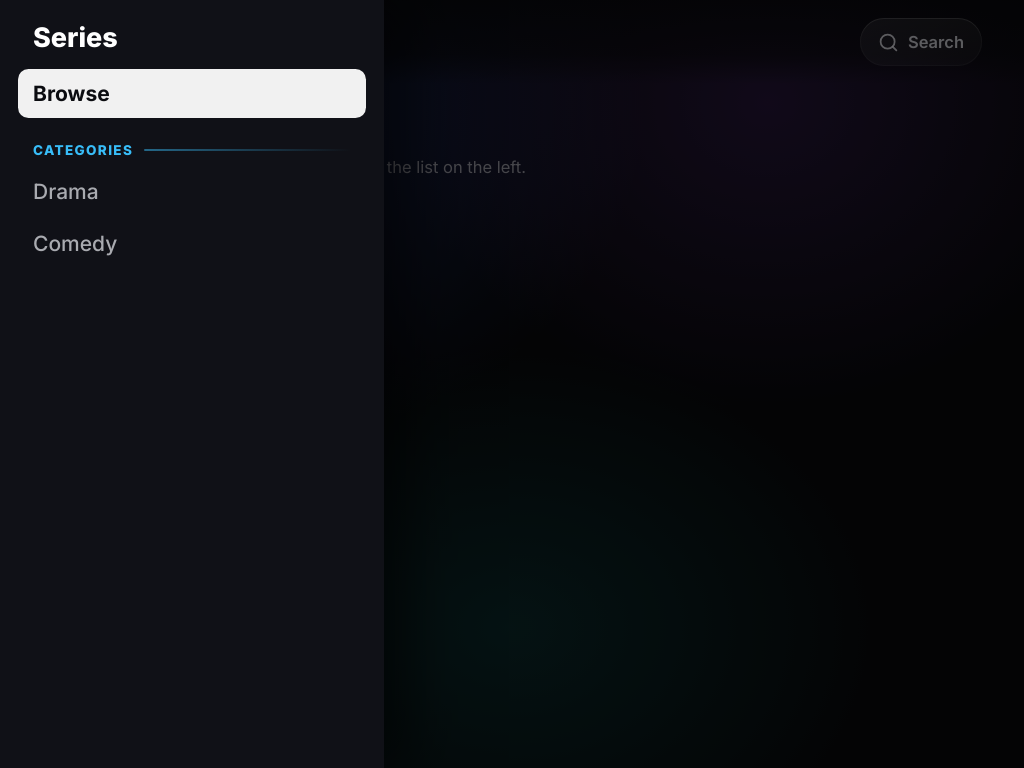
Test: SeriesScreen while the series table is still being built › picking a category meanwhile fetches just that category from the provider
Click the button "Drama" at (66, 192), box [18, 167, 366, 216]
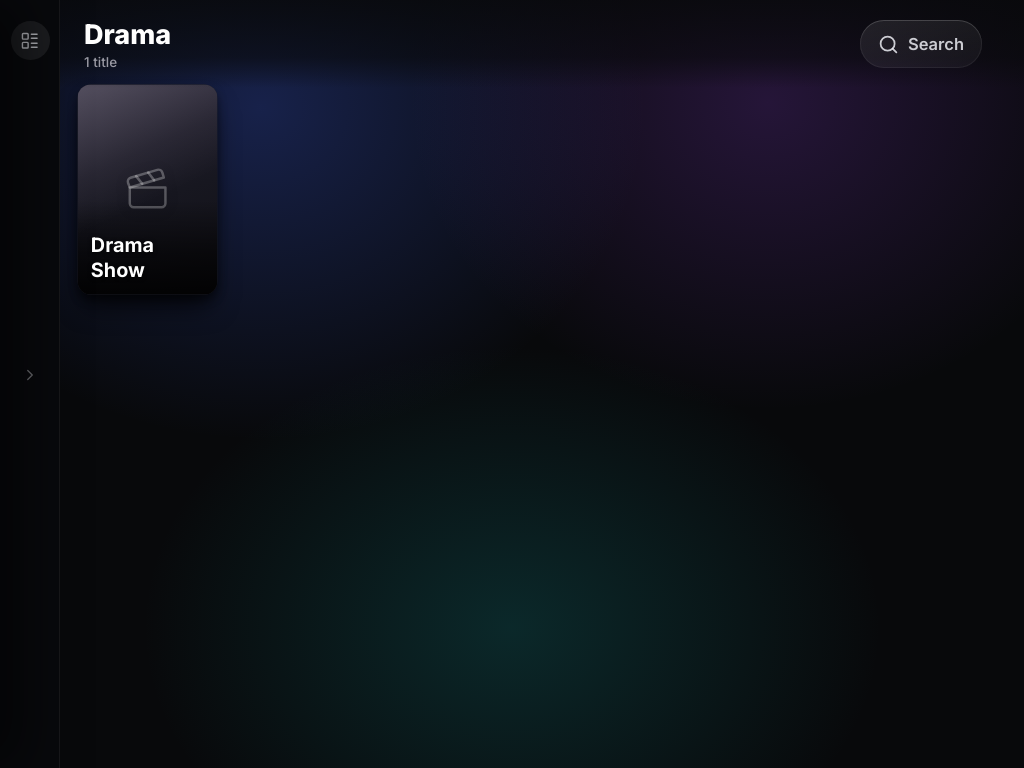
expect the text "Drama Show" is shown: met, box [91, 233, 154, 281]
